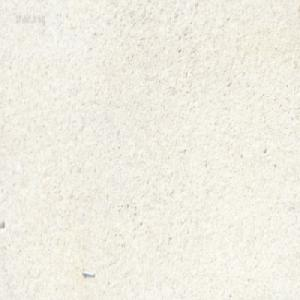Nail: (80, 267, 95, 277)
